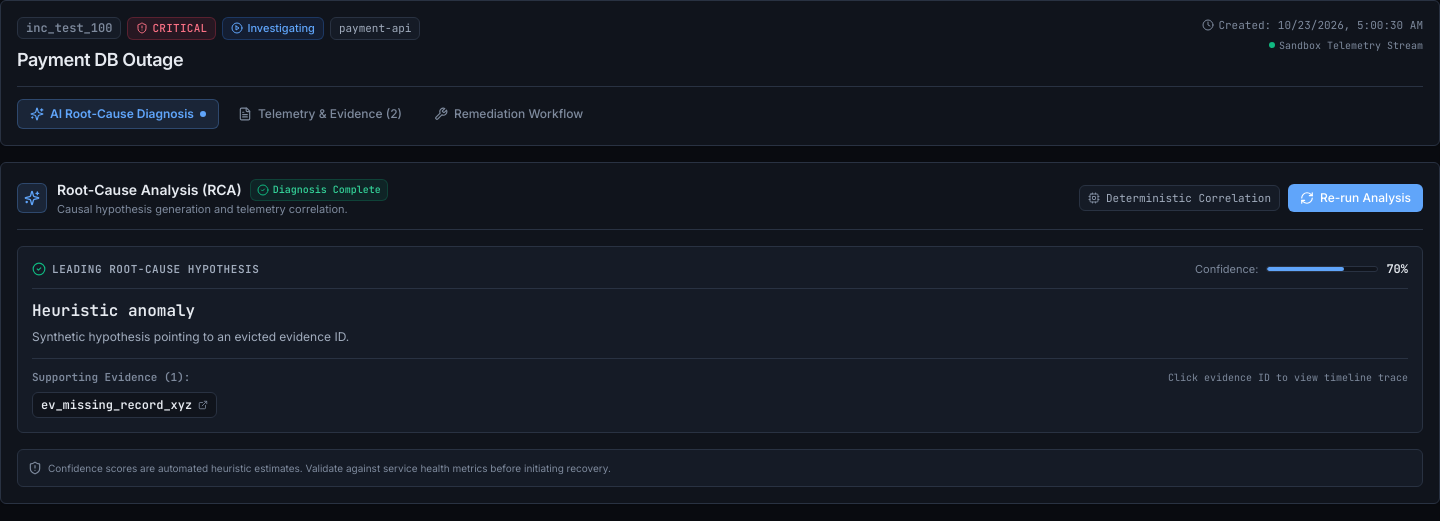
Test: Evidence Link Navigation & URL-State Synchronization › HANDLES MISSING EVIDENCE SAFELY: clicking an unrecorded evidence ID renders explicit missing record banner
Click the link with test id "evidence-link-ev_missing_record_xyz" at (125, 404), box [32,392,217,418]
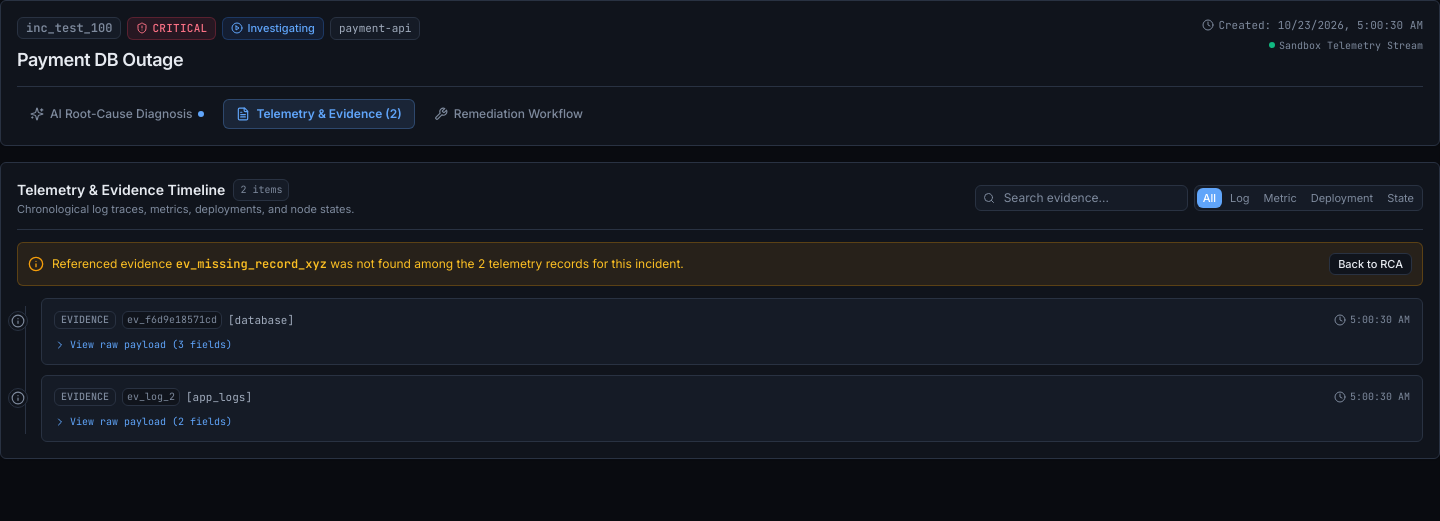
Result: the element with test id "evidence-timeline" is shown at [0,162,1439,459]
Result: the element with test id "missing-evidence-banner" is shown at [17,242,1423,286]
Result: the text "was not found among the 2 telemetry records" is shown at [52,256,684,272]
